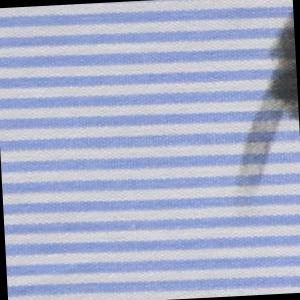Stain: (222, 10, 300, 201)
